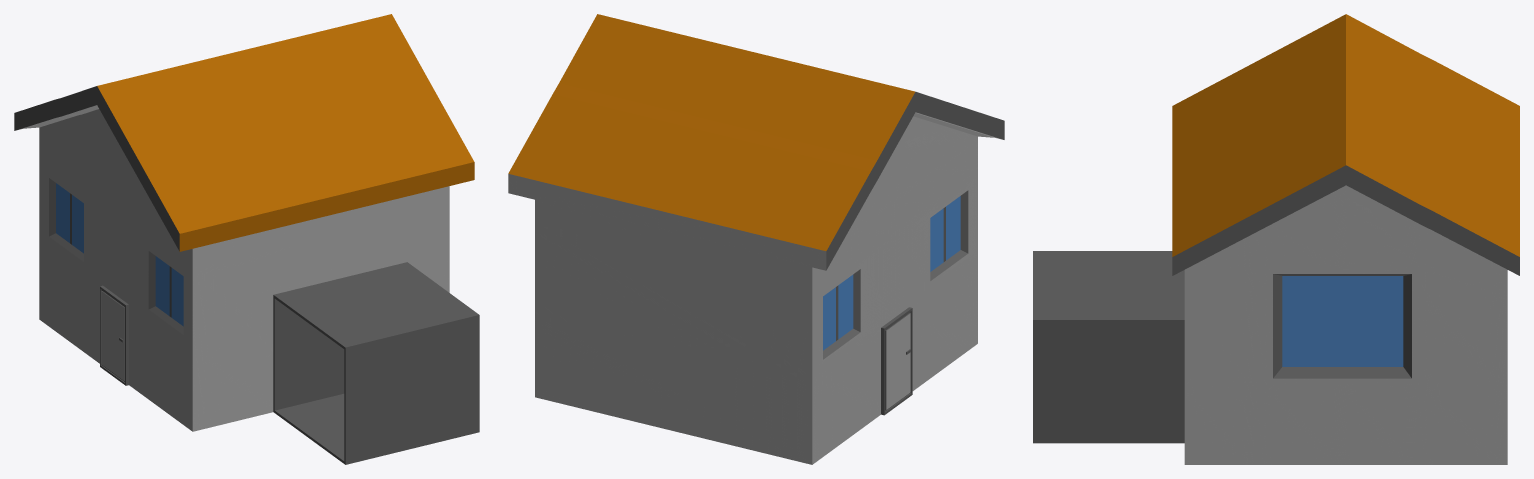
The model's file is small_house.glb.
3 renders of one model, left to right at view 1: azimuth 30°, elevation 25°; view 2: azimuth 150°, elevation 25°; view 3: azimuth 270°, elevation 25°, orthographic. The views are drawn at different scales.
Parts seen in each view (by area): view 1: SMALL HOUSE.001_Material.064_0; view 2: SMALL HOUSE.001_Material.064_0; view 3: SMALL HOUSE.001_Material.064_0.
Part boxes in pixels (x1,y1,x2,y2): SMALL HOUSE.001_Material.064_0: [14, 14, 479, 464]; SMALL HOUSE.001_Material.064_0: [508, 14, 1004, 464]; SMALL HOUSE.001_Material.064_0: [1033, 14, 1519, 464].
Size of the model in its own units: 2.14 by 2.04 by 2.91.
1 material, 1 textured.
